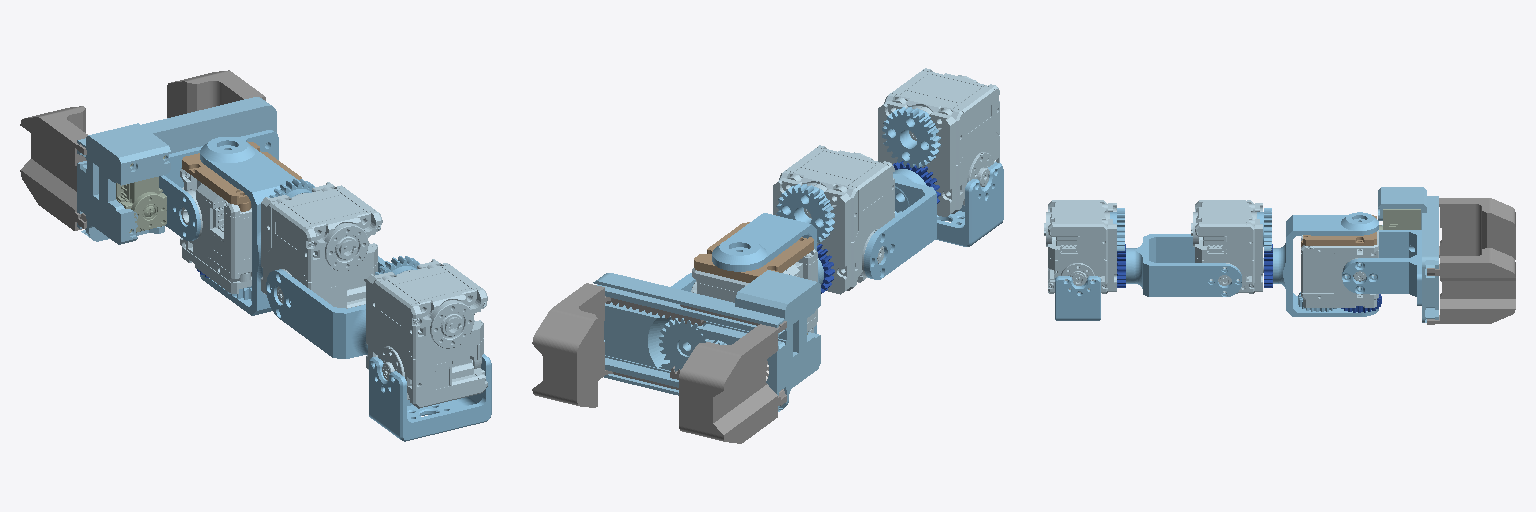
--- What the picture shows (computed from the rendered views, not written in the file) ---
3 views of the same robot in one strip: view 1: azimuth 30°, elevation 25°; view 2: azimuth 150°, elevation 25°; view 3: azimuth 270°, elevation 25° (orthographic).
Robot: left_arm_gripper — 19 links, 18 joints (10 revolute, 2 prismatic, 6 fixed); root link sho_pitch_link; default pose: all joints at 0.
Visible links, largest first — view 1: 2xl430_gears, left_rail_guide, 2xl430_gears_2, rail, 2xl430_gears_3, sho_pitch_link, elb_yaw_link, sho_yaw_link, rail_2, left_gripper_connector, xc330, wrist_bearing_plate; view 2: left_rail_guide, 2xl430_gears, rail, 2xl430_gears_2, rail_2, sho_yaw_link, elb_yaw_link, sho_pitch_link, spur_1m_24t_drive, spur_1m_24t_drive_2, 2xl430_gears_3, wrist_bearing_plate; view 3: 2xl430_gears, rail_2, sho_yaw_link, 2xl430_gears_2, rail, left_gripper_connector, 2xl430_gears_3, elb_yaw_link, left_rail_guide, sho_pitch_link, xc330, wrist_bearing_plate.
Boxes of the visible links, <box> form: 2xl430_gears: <box>366,259,487,408</box>; left_rail_guide: <box>77,97,276,244</box>; 2xl430_gears_2: <box>261,182,382,308</box>; rail: <box>20,106,87,230</box>; 2xl430_gears_3: <box>180,168,251,293</box>; sho_pitch_link: <box>369,354,491,441</box>; elb_yaw_link: <box>200,137,298,315</box>; sho_yaw_link: <box>266,256,385,358</box>; rail_2: <box>167,70,265,117</box>; left_gripper_connector: <box>159,130,278,240</box>; xc330: <box>116,155,166,232</box>; wrist_bearing_plate: <box>182,141,301,211</box>; left_rail_guide: <box>593,270,820,411</box>; 2xl430_gears: <box>878,68,999,216</box>; rail: <box>670,305,786,443</box>; 2xl430_gears_2: <box>773,145,894,294</box>; rail_2: <box>532,283,705,407</box>; sho_yaw_link: <box>864,169,936,279</box>; elb_yaw_link: <box>712,213,823,333</box>; sho_pitch_link: <box>936,162,1003,246</box>; spur_1m_24t_drive: <box>882,107,940,167</box>; spur_1m_24t_drive_2: <box>776,184,834,242</box>; 2xl430_gears_3: <box>691,249,817,332</box>; wrist_bearing_plate: <box>694,222,813,282</box>; 2xl430_gears: <box>1044,200,1116,293</box>; rail_2: <box>1427,248,1515,324</box>; sho_yaw_link: <box>1126,234,1241,296</box>; 2xl430_gears_2: <box>1191,200,1263,293</box>; rail: <box>1439,198,1515,259</box>; left_gripper_connector: <box>1342,230,1421,305</box>; 2xl430_gears_3: <box>1301,230,1378,307</box>; elb_yaw_link: <box>1273,212,1378,316</box>; left_rail_guide: <box>1378,187,1438,322</box>; sho_pitch_link: <box>1055,276,1100,320</box>; xc330: <box>1379,209,1420,229</box>; wrist_bearing_plate: <box>1301,215,1376,246</box>.
Size in the robot's own frame: 0.0917 by 0.2811 by 0.0652 metres.
Meshes: 19 distinct files referenced, 19 mesh visuals loaded (19 binary STL).

The robot description file, URDF, robot "left_arm_gripper":
<?xml version="1.0" ?>
<robot name="left_arm_gripper">
  <link name="sho_pitch_link">
    <visual>
      <origin xyz="0 0 0" rpy="0 -0 0"/>
      <geometry>
        <mesh filename="package:///meshes/left_sho_pitch_link_visual.stl"/>
      </geometry>
      <material name="sho_pitch_link_material">
        <color rgba="0.61568627450980395466 0.81176470588235294379 0.92941176470588227065 1.0"/>
      </material>
    </visual>
    <collision>
      <origin xyz="0 0 0" rpy="0 -0 0"/>
      <geometry>
        <mesh filename="package:///meshes/left_sho_pitch_link_collision.stl"/>
      </geometry>
    </collision>
    <inertial>
      <origin xyz="-1.0259034381598989264e-18 -2.1966078074444170109e-18 0.012913250798677557499" rpy="0 0 0"/>
      <mass value="0.0085999999999999982708"/>
      <inertia ixx="1.8365636406635683089e-06" ixy="1.0387514045979628457e-20" ixz="-1.6193093852519860617e-61" iyy="4.0110869076838864174e-06" iyz="-1.0800914119377960692e-46" izz="3.516051645049224817e-06"/>
    </inertial>
  </link>

  <link name="2xl430_gears">
    <visual>
      <origin xyz="0 0 0" rpy="0 -0 0"/>
      <geometry>
        <mesh filename="package:///meshes/left_2xl430_gears_visual.stl"/>
      </geometry>
      <material name="2xl430_gears_material">
        <color rgba="0.75914767920569214965 0.85560384745670925444 0.90519468321360607721 1.0"/>
      </material>
    </visual>
    <collision>
      <origin xyz="0 0 0" rpy="0 -0 0"/>
      <geometry>
        <mesh filename="package:///meshes/left_2xl430_gears_collision.stl"/>
      </geometry>
    </collision>
    <inertial>
      <origin xyz="-0.011592905737984531694 -0.0024238553642513625125 -0.018551095523807990123" rpy="0 0 0"/>
      <mass value="0.11800003674524911501"/>
      <inertia ixx="2.751102105042718034e-05" ixy="9.0043904315212092764e-07" ixz="-2.3349710123078761822e-08" iyy="3.2796197843348192627e-05" iyz="-6.57151196549046044e-07" izz="3.5775739835743546827e-05"/>
    </inertial>
  </link>

  <link name="spur_1m_24t_drive">
    <visual>
      <origin xyz="0 0 0" rpy="0 -0 0"/>
      <geometry>
        <mesh filename="package:///meshes/left_spur_1m_24t_drive_visual.stl"/>
      </geometry>
      <material name="spur_1m_24t_drive_material">
        <color rgba="0.61568627450980395466 0.81176470588235294379 0.92941176470588238168 1.0"/>
      </material>
    </visual>
    <collision>
      <origin xyz="0 0 0" rpy="0 -0 0"/>
      <geometry>
        <mesh filename="package:///meshes/left_spur_1m_24t_drive_collision.stl"/>
      </geometry>
    </collision>
    <inertial>
      <origin xyz="3.0326032612408354263e-15 -3.3912620816558811906e-16 0.0048096451474093065287" rpy="0 0 0"/>
      <mass value="0.0031999999999999997197"/>
      <inertia ixx="1.4097598887016958673e-07" ixy="1.556282310200251252e-15" ixz="-1.9054826560744749536e-36" iyy="1.4097598803635998845e-07" iyz="-1.0410230873183347628e-35" izz="2.4107776386988835496e-07"/>
    </inertial>
  </link>

  <joint name="left_sho_yaw_drive" type="revolute">
    <origin xyz="-0.024000000716142999568 -0.019000000152452855423 -0.019000000152454149527" rpy="1.5707963267951641217 1.7852935519577563101e-13 1.662194559181264057e-13"/>
    <parent link="2xl430_gears"/>
    <child link="spur_1m_24t_drive"/>
    <axis xyz="0 0 1"/>
    <limit effort="1" velocity="20" lower="-2.6179938779914944114" upper="2.6179938779914944114"/>
    <joint_properties friction="0.0"/>
  </joint>

  <link name="spur_1m_24t_driven">
    <visual>
      <origin xyz="0 0 0" rpy="0 -0 0"/>
      <geometry>
        <mesh filename="package:///meshes/left_spur_1m_24t_driven_visual.stl"/>
      </geometry>
      <material name="spur_1m_24t_driven_material">
        <color rgba="0.23137254901960788156 0.38039215686274502337 0.7058823529411765163 1.0"/>
      </material>
    </visual>
    <collision>
      <origin xyz="0 0 0" rpy="0 -0 0"/>
      <geometry>
        <mesh filename="package:///meshes/left_spur_1m_24t_driven_collision.stl"/>
      </geometry>
    </collision>
    <inertial>
      <origin xyz="-2.690304390834019776e-18 -1.6883842059581390828e-15 -0.00097237500038395777158" rpy="0 0 0"/>
      <mass value="0.0026999999999999997093"/>
      <inertia ixx="1.2202334915684080498e-07" ixy="0" ixz="0" iyy="1.2202334915684064616e-07" iyz="9.0098026086481821834e-37" izz="2.3180293204341252239e-07"/>
    </inertial>
  </link>

  <link name="sho_yaw_link">
    <visual>
      <origin xyz="0 0 0" rpy="0 -0 0"/>
      <geometry>
        <mesh filename="package:///meshes/left_sho_yaw_link_visual.stl"/>
      </geometry>
      <material name="sho_yaw_link_material">
        <color rgba="0.61568627450980395466 0.81176470588235294379 0.92941176470588238168 1.0"/>
      </material>
    </visual>
    <collision>
      <origin xyz="0 0 0" rpy="0 -0 0"/>
      <geometry>
        <mesh filename="package:///meshes/left_sho_yaw_link_collision.stl"/>
      </geometry>
    </collision>
    <inertial>
      <origin xyz="-4.7730210054626242047e-18 2.6069328434151166727e-18 -0.024649285094360075254" rpy="0 0 0"/>
      <mass value="0.014500000000000007674"/>
      <inertia ixx="9.2365904614004439553e-06" ixy="3.5862833440690451918e-13" ixz="1.4405210395321376036e-34" iyy="5.8163826335078791714e-06" iyz="7.6091566349163998504e-35" izz="4.5074356741562122031e-06"/>
    </inertial>
  </link>

  <link name="2xl430_gears_2">
    <visual>
      <origin xyz="0 0 0" rpy="0 -0 0"/>
      <geometry>
        <mesh filename="package:///meshes/left_2xl430_gears_2_visual.stl"/>
      </geometry>
      <material name="2xl430_gears_2_material">
        <color rgba="0.75914767920569214965 0.85560384745670925444 0.90519468321360607721 1.0"/>
      </material>
    </visual>
    <collision>
      <origin xyz="0 0 0" rpy="0 -0 0"/>
      <geometry>
        <mesh filename="package:///meshes/left_2xl430_gears_2_collision.stl"/>
      </geometry>
    </collision>
    <inertial>
      <origin xyz="-0.01159290573798443455 -0.0024238553642578907106 -0.018551095523808416865" rpy="0 0 0"/>
      <mass value="0.11800003674524911501"/>
      <inertia ixx="2.7511021050432377734e-05" ixy="9.0043904315196200308e-07" ixz="-2.3349710123606006745e-08" iyy="3.2796197843347941905e-05" iyz="-6.5715119654818365858e-07" izz="3.5775739835749293099e-05"/>
    </inertial>
  </link>

  <link name="spur_1m_24t_drive_2">
    <visual>
      <origin xyz="0 0 0" rpy="0 -0 0"/>
      <geometry>
        <mesh filename="package:///meshes/left_spur_1m_24t_drive_2_visual.stl"/>
      </geometry>
      <material name="spur_1m_24t_drive_2_material">
        <color rgba="0.61568627450980395466 0.81176470588235294379 0.92941176470588238168 1.0"/>
      </material>
    </visual>
    <collision>
      <origin xyz="0 0 0" rpy="0 -0 0"/>
      <geometry>
        <mesh filename="package:///meshes/left_spur_1m_24t_drive_2_collision.stl"/>
      </geometry>
    </collision>
    <inertial>
      <origin xyz="3.0326032612408362152e-15 -3.3912620813973872492e-16 0.0048096451474092995898" rpy="0 0 0"/>
      <mass value="0.0031999999999999997197"/>
      <inertia ixx="1.409759888701696132e-07" ixy="1.5562823122431795239e-15" ixz="1.716313347270729479e-36" iyy="1.4097598803636004139e-07" iyz="4.0918007442501279481e-37" izz="2.4107776386988835496e-07"/>
    </inertial>
  </link>

  <joint name="left_elbow_yaw_drive" type="revolute">
    <origin xyz="-0.024000000716145834107 -0.019000000152458659808 -0.01900000015244798085" rpy="1.5707963267947213648 5.6483017330373295891e-14 4.6978620126247880643e-14"/>
    <parent link="2xl430_gears_2"/>
    <child link="spur_1m_24t_drive_2"/>
    <axis xyz="0 0 1"/>
    <limit effort="1" velocity="20" lower="-2.6179938779914944114" upper="2.6179938779914944114"/>
    <joint_properties friction="0.0"/>
  </joint>

  <link name="spur_1m_24t_driven_2">
    <visual>
      <origin xyz="0 0 0" rpy="0 -0 0"/>
      <geometry>
        <mesh filename="package:///meshes/left_spur_1m_24t_driven_2_visual.stl"/>
      </geometry>
      <material name="spur_1m_24t_driven_2_material">
        <color rgba="0.23137254901960788156 0.38039215686274502337 0.7058823529411765163 1.0"/>
      </material>
    </visual>
    <collision>
      <origin xyz="0 0 0" rpy="0 -0 0"/>
      <geometry>
        <mesh filename="package:///meshes/left_spur_1m_24t_driven_2_collision.stl"/>
      </geometry>
    </collision>
    <inertial>
      <origin xyz="-6.1597513427876451353e-18 -1.6883842059581483519e-15 -0.00097237500038396124102" rpy="0 0 0"/>
      <mass value="0.0026999999999999997093"/>
      <inertia ixx="1.2202334915684080498e-07" ixy="-5.001952331184614871e-40" ixz="-5.4479807872574103124e-38" iyy="1.2202334915684064616e-07" iyz="-1.9538097176800387152e-36" izz="2.3180293204341262827e-07"/>
    </inertial>
  </link>

  <link name="elb_yaw_link">
    <visual>
      <origin xyz="0 0 0" rpy="0 -0 0"/>
      <geometry>
        <mesh filename="package:///meshes/left_elb_yaw_link_visual.stl"/>
      </geometry>
      <material name="elb_yaw_link_material">
        <color rgba="0.61568627450980395466 0.81176470588235294379 0.92941176470588227065 1.0"/>
      </material>
    </visual>
    <collision>
      <origin xyz="0 0 0" rpy="0 -0 0"/>
      <geometry>
        <mesh filename="package:///meshes/left_elb_yaw_link_collision.stl"/>
      </geometry>
    </collision>
    <inertial>
      <origin xyz="5.3127688027774929136e-08 0.0019833638641961648559 -0.023416643551549924662" rpy="0 0 0"/>
      <mass value="0.017500000000000005135"/>
      <inertia ixx="1.4134344903109199776e-05" ixy="1.6945783922006116668e-12" ixz="-1.1286398721833140765e-11" iyy="6.6435900776211340404e-06" iyz="1.0545227077253051227e-06" izz="8.9925290757998993713e-06"/>
    </inertial>
  </link>

  <link name="spur_1m_24t_driven_3">
    <visual>
      <origin xyz="0 0 0" rpy="0 -0 0"/>
      <geometry>
        <mesh filename="package:///meshes/left_spur_1m_24t_driven_3_visual.stl"/>
      </geometry>
      <material name="spur_1m_24t_driven_3_material">
        <color rgba="0.23137254901960788156 0.38039215686274502337 0.7058823529411765163 1.0"/>
      </material>
    </visual>
    <collision>
      <origin xyz="0 0 0" rpy="0 -0 0"/>
      <geometry>
        <mesh filename="package:///meshes/left_spur_1m_24t_driven_3_collision.stl"/>
      </geometry>
    </collision>
    <inertial>
      <origin xyz="-2.690304390834019776e-18 -1.6883842059581294192e-15 -0.0025723750003839550293" rpy="0 0 0"/>
      <mass value="0.0026999999999999997093"/>
      <inertia ixx="1.2202334915684080498e-07" ixy="-2.0478496606109072234e-37" ixz="0" iyy="1.2202334915684064616e-07" iyz="0" izz="2.3180293204341252239e-07"/>
    </inertial>
  </link>

  <link name="2xl430_gears_3">
    <visual>
      <origin xyz="0 0 0" rpy="0 -0 0"/>
      <geometry>
        <mesh filename="package:///meshes/left_2xl430_gears_3_visual.stl"/>
      </geometry>
      <material name="2xl430_gears_3_material">
        <color rgba="0.75914767920569214965 0.85560384745670925444 0.90519468321360607721 1.0"/>
      </material>
    </visual>
    <collision>
      <origin xyz="0 0 0" rpy="0 -0 0"/>
      <geometry>
        <mesh filename="package:///meshes/left_2xl430_gears_3_collision.stl"/>
      </geometry>
    </collision>
    <inertial>
      <origin xyz="0.00044890447619466358623 0.011592905379906717767 -0.024576144788201054192" rpy="0 0 0"/>
      <mass value="0.11800003674524911501"/>
      <inertia ixx="3.5775739835742191575e-05" ixy="2.3349710124490282672e-08" ixz="6.5715119654859785769e-07" iyy="2.7511021050427132906e-05" iyz="9.0043904314985839676e-07" izz="3.2796197843347379476e-05"/>
    </inertial>
  </link>

  <link name="spur_1m_24t_drive_3">
    <visual>
      <origin xyz="0 0 0" rpy="0 -0 0"/>
      <geometry>
        <mesh filename="package:///meshes/left_spur_1m_24t_drive_3_visual.stl"/>
      </geometry>
      <material name="spur_1m_24t_drive_3_material">
        <color rgba="0.61568627450980395466 0.81176470588235294379 0.92941176470588238168 1.0"/>
      </material>
    </visual>
    <collision>
      <origin xyz="0 0 0" rpy="0 -0 0"/>
      <geometry>
        <mesh filename="package:///meshes/left_spur_1m_24t_drive_3_collision.stl"/>
      </geometry>
    </collision>
    <inertial>
      <origin xyz="3.0326032612408354263e-15 -3.3912620813973867561e-16 0.0048096451474093065287" rpy="0 0 0"/>
      <mass value="0.0031999999999999997197"/>
      <inertia ixx="1.4097598887016958673e-07" ixy="1.5562823102285579479e-15" ixz="1.2360023079066387479e-35" iyy="1.4097598803635998845e-07" iyz="1.4333673239442395638e-36" izz="2.4107776386988835496e-07"/>
    </inertial>
  </link>

  <joint name="left_wrist_pitch_drive" type="revolute">
    <origin xyz="-1.524451905139367785e-10 0.024000000358071232887 -0.0080000000000054836274" rpy="4.16271708357995742e-14 -1.9270925058949600393e-13 -1.5707963267948177322"/>
    <parent link="2xl430_gears_3"/>
    <child link="spur_1m_24t_drive_3"/>
    <axis xyz="0 0 1"/>
    <limit effort="1" velocity="20" lower="-1.9198621771937625091" upper="1.3962634015954635824"/>
    <joint_properties friction="0.0"/>
  </joint>

  <link name="left_gripper_connector">
    <visual>
      <origin xyz="0 0 0" rpy="0 -0 0"/>
      <geometry>
        <mesh filename="package:///meshes/left_gripper_connector_visual.stl"/>
      </geometry>
      <material name="left_gripper_connector_material">
        <color rgba="0.61568627450980395466 0.81176470588235294379 0.92941176470588238168 1.0"/>
      </material>
    </visual>
    <collision>
      <origin xyz="0 0 0" rpy="0 -0 0"/>
      <geometry>
        <mesh filename="package:///meshes/left_gripper_connector_collision.stl"/>
      </geometry>
    </collision>
    <inertial>
      <origin xyz="-0.00018842170188954616267 -0.022508162473387265112 -0.010896047477464285841" rpy="0 0 0"/>
      <mass value="0.0099999999999999984734"/>
      <inertia ixx="5.9456375734536684232e-06" ixy="-2.447905549188665837e-08" ixz="-4.0329437936864239347e-08" iyy="4.2603724874314037743e-06" iyz="4.5852612749762338286e-07" izz="2.466963252804713858e-06"/>
    </inertial>
  </link>

  <link name="left_rail_guide">
    <visual>
      <origin xyz="0 0 0" rpy="0 -0 0"/>
      <geometry>
        <mesh filename="package:///meshes/left_rail_guide_visual.stl"/>
      </geometry>
      <material name="left_rail_guide_material">
        <color rgba="0.63181718041513323936 0.80465605329635414567 0.89972875975946797755 1.0"/>
      </material>
    </visual>
    <collision>
      <origin xyz="0 0 0" rpy="0 -0 0"/>
      <geometry>
        <mesh filename="package:///meshes/left_rail_guide_collision.stl"/>
      </geometry>
    </collision>
    <inertial>
      <origin xyz="0.010819518839780871769 0.0021116106205359614668 -7.687170986491803019e-05" rpy="0 0 0"/>
      <mass value="0.031121017612416666809"/>
      <inertia ixx="7.8532725551086577254e-06" ixy="2.0671876731375220984e-06" ixz="4.0098876287871823871e-06" iyy="2.7330594711584456634e-05" iyz="-8.9062740055665011471e-07" izz="3.0532648647413090004e-05"/>
    </inertial>
  </link>

  <link name="rail">
    <visual>
      <origin xyz="0 0 0" rpy="0 -0 0"/>
      <geometry>
        <mesh filename="package:///meshes/left_rail_visual.stl"/>
      </geometry>
      <material name="rail_material">
        <color rgba="0.64705882352941179736 0.64705882352941179736 0.64705882352941179736 1.0"/>
      </material>
    </visual>
    <collision>
      <origin xyz="0 0 0" rpy="0 -0 0"/>
      <geometry>
        <mesh filename="package:///meshes/left_rail_collision.stl"/>
      </geometry>
    </collision>
    <inertial>
      <origin xyz="0.029506549511750319176 -0.015932823905721996138 -0.010527873318605746045" rpy="0 0 0"/>
      <mass value="0.017100000000000007555"/>
      <inertia ixx="3.6539450928192396354e-06" ixy="2.1092288739438398891e-08" ixz="-1.1722367407071777491e-07" iyy="4.7510522653474580835e-06" iyz="3.1475054982591100515e-08" izz="6.1158569967957946884e-06"/>
    </inertial>
  </link>

  <joint name="left_gripper_pinion" type="prismatic">
    <origin xyz="-0.028872600000000029491 -0.015974999999999992678 -0.0053500000000000491607" rpy="3.1415926535897926719 1.5707963267948954478 0"/>
    <parent link="left_rail_guide"/>
    <child link="rail"/>
    <axis xyz="0 0 1"/>
    <limit effort="1" velocity="20" lower="-0.025000000000000001388" upper="0"/>
    <joint_properties friction="0.0"/>
  </joint>

  <link name="rail_2">
    <visual>
      <origin xyz="0 0 0" rpy="0 -0 0"/>
      <geometry>
        <mesh filename="package:///meshes/left_rail_2_visual.stl"/>
      </geometry>
      <material name="rail_2_material">
        <color rgba="0.64705882352941179736 0.64705882352941179736 0.64705882352941179736 1.0"/>
      </material>
    </visual>
    <collision>
      <origin xyz="0 0 0" rpy="0 -0 0"/>
      <geometry>
        <mesh filename="package:///meshes/left_rail_2_collision.stl"/>
      </geometry>
    </collision>
    <inertial>
      <origin xyz="0.029506549511750343462 -0.015932823905721999608 -0.010527873318605732167" rpy="0 0 0"/>
      <mass value="0.017100000000000007555"/>
      <inertia ixx="3.6539450928192396354e-06" ixy="2.1092288739438398891e-08" ixz="-1.1722367407071777491e-07" iyy="4.7510522653474580835e-06" iyz="3.1475054982591100515e-08" izz="6.1158569967957946884e-06"/>
    </inertial>
  </link>

  <joint name="left_gripper_pinion_mirror" type="prismatic">
    <origin xyz="0.062872600000000042342 0.015974999999999996148 -0.0053500000000000214051" rpy="-3.4217842105774686555e-16 1.5707963267948954478 0"/>
    <parent link="left_rail_guide"/>
    <child link="rail_2"/>
    <axis xyz="0 0 1"/>
    <limit effort="1" velocity="20" lower="-0.025000000000000001388" upper="0"/>
    <joint_properties friction="0.0"/>
  </joint>

  <link name="xc330">
    <visual>
      <origin xyz="0 0 0" rpy="0 -0 0"/>
      <geometry>
        <mesh filename="package:///meshes/left_xc330_visual.stl"/>
      </geometry>
      <material name="xc330_material">
        <color rgba="0.66932535752643762539 0.72911795671409951325 0.67547870389434383487 1.0"/>
      </material>
    </visual>
    <collision>
      <origin xyz="0 0 0" rpy="0 -0 0"/>
      <geometry>
        <mesh filename="package:///meshes/left_xc330_collision.stl"/>
      </geometry>
    </collision>
    <inertial>
      <origin xyz="0.0080045171539642415853 -0.015558009851635253018 -0.011717805512818375846" rpy="0 0 0"/>
      <mass value="0.026599999993091760775"/>
      <inertia ixx="3.8683410666514144775e-06" ixy="-7.7688424002195035071e-10" ixz="5.7969695836943880499e-10" iyy="2.1626767907494822169e-06" iyz="8.3590274790330918056e-09" izz="3.3158761130055984099e-06"/>
    </inertial>
  </link>

  <link name="spur_gear_(18_teeth)">
    <visual>
      <origin xyz="0 0 0" rpy="0 -0 0"/>
      <geometry>
        <mesh filename="package:///meshes/left_spur_gear_(18_teeth)_visual.stl"/>
      </geometry>
      <material name="spur_gear_(18_teeth)_material">
        <color rgba="0.9176470588235294823 0.9176470588235294823 0.9176470588235294823 1.0"/>
      </material>
    </visual>
    <collision>
      <origin xyz="0 0 0" rpy="0 -0 0"/>
      <geometry>
        <mesh filename="package:///meshes/left_spur_gear_(18_teeth)_collision.stl"/>
      </geometry>
    </collision>
    <inertial>
      <origin xyz="5.7245874707234634116e-17 -3.8163916471489756077e-17 -0.0025000000000000078583" rpy="0 0 0"/>
      <mass value="0.0012999999999999997235"/>
      <inertia ixx="3.3282842836137718203e-08" ixy="-1.6173796229465777701e-22" ixz="2.3031319583818275503e-37" iyy="3.3282842836137460123e-08" iyz="-1.5027956260699347386e-36" izz="6.1149428795799502273e-08"/>
    </inertial>
  </link>

  <joint name="left_gripper_rack" type="revolute">
    <origin xyz="0.008000000000000003636 -0.022500000000000002637 -0.026000000000000023093" rpy="8.0274485715290161319e-27 -6.1232339957378667434e-17 -3.141592653589793116"/>
    <parent link="xc330"/>
    <child link="spur_gear_(18_teeth)"/>
    <axis xyz="0 0 1"/>
    <limit effort="1" velocity="20" lower="0" upper="2.7052603405912107881"/>
    <joint_properties friction="0.0"/>
  </joint>

  <joint name="left_gripper_motor" type="fixed">
    <origin xyz="-0.021950000000000014638 0.022600000000000036726 0.023300000000000042899" rpy="-1.3739009929259842173e-15 2.7559334175823541618e-31 6.8285689592397465021e-30"/>
    <parent link="left_rail_guide"/>
    <child link="xc330"/>
    <axis xyz="0 0 1"/>
    <limit effort="1" velocity="20"/>
    <joint_properties friction="0.0"/>
  </joint>

  <joint name="left_gripper_fixed" type="fixed">
    <origin xyz="0 -0.037000000000000005107 -0.036000000000000004219" rpy="-1.5707963267948958919 -1.5707963267948961139 0"/>
    <parent link="left_gripper_connector"/>
    <child link="left_rail_guide"/>
    <axis xyz="0 0 1"/>
    <limit effort="1" velocity="20"/>
    <joint_properties friction="0.0"/>
  </joint>

  <joint name="left_wrist_roll" type="revolute">
    <origin xyz="0.019000000000005661666 -3.5807856679781480125e-10 -0.027000000152451263113" rpy="-2.8064031127489633951e-14 1.5707963267947580022 0"/>
    <parent link="2xl430_gears_3"/>
    <child link="left_gripper_connector"/>
    <axis xyz="0 0 1"/>
    <limit effort="1" velocity="20" lower="-1.9198621771937625091" upper="1.3962634015954635824"/>
    <joint_properties friction="0.0"/>
  </joint>

  <link name="wrist_bearing_plate">
    <visual>
      <origin xyz="0 0 0" rpy="0 -0 0"/>
      <geometry>
        <mesh filename="package:///meshes/left_wrist_bearing_plate_visual.stl"/>
      </geometry>
      <material name="wrist_bearing_plate_material">
        <color rgba="0.71932243125689054875 0.63128434304969727187 0.52422389360984933404 1.0"/>
      </material>
    </visual>
    <collision>
      <origin xyz="0 0 0" rpy="0 -0 0"/>
      <geometry>
        <mesh filename="package:///meshes/left_wrist_bearing_plate_collision.stl"/>
      </geometry>
    </collision>
    <inertial>
      <origin xyz="-0.0075835583121500130949 -0.015499999999999980807 -0.0018386323705903353121" rpy="0 0 0"/>
      <mass value="0.0049000367468305557062"/>
      <inertia ixx="4.9707430109150118544e-07" ixy="1.1840168245471985606e-22" ixz="1.8100904820814018704e-08" iyy="7.1268523603538542471e-07" iyz="1.9408397704641965019e-23" izz="1.1919657811600104999e-06"/>
    </inertial>
  </link>

  <joint name="left_wrist_pitch_fixed" type="fixed">
    <origin xyz="0.015500000000000927966 -5.3013149425851224805e-15 -0.045000000000004647394" rpy="-1.3423748839779928189e-14 -1.2850831510036285405e-13 -1.5707963267947808728"/>
    <parent link="2xl430_gears_3"/>
    <child link="wrist_bearing_plate"/>
    <axis xyz="0 0 1"/>
    <limit effort="1" velocity="20"/>
    <joint_properties friction="0.0"/>
  </joint>

  <joint name="left_wrist_pitch_driven" type="revolute">
    <origin xyz="2.7755575615628913511e-17 -2.7218856673745791334e-26 -0.0015999999999999970409" rpy="1.4482204529901611002e-15 -3.5076854490550032472e-16 -1.570796326794896558"/>
    <parent link="spur_1m_24t_driven_3"/>
    <child link="2xl430_gears_3"/>
    <axis xyz="0 0 1"/>
    <limit effort="1" velocity="20" lower="-1.3962634015954635824" upper="1.9198621771937625091"/>
    <joint_properties friction="0.0"/>
  </joint>

  <joint name="left_wrist_roll_fixed" type="fixed">
    <origin xyz="-3.1491327336422791272e-27 -0.025299999999999996103 -0.052000000000000004552" rpy="1.570796326794896558 -1.570796326794896558 0"/>
    <parent link="elb_yaw_link"/>
    <child link="spur_1m_24t_driven_3"/>
    <axis xyz="0 0 1"/>
    <limit effort="1" velocity="20"/>
    <joint_properties friction="0.0"/>
  </joint>

  <joint name="left_elbow_yaw_fixed" type="fixed">
    <origin xyz="3.4694469519536141888e-18 -2.5312968726731826812e-26 0.0016000000000000041966" rpy="3.141592653589793116 9.0036945470132253747e-18 -1.570796326794896558"/>
    <parent link="spur_1m_24t_driven_2"/>
    <child link="elb_yaw_link"/>
    <axis xyz="0 0 1"/>
    <limit effort="1" velocity="20"/>
    <joint_properties friction="0.0"/>
  </joint>

  <joint name="left_elbow_yaw_driven" type="revolute">
    <origin xyz="-3.5806529269377662672e-10 -0.027000000152462802494 -0.019000000000002664063" rpy="1.5707963267946982722 1.4238795043810668594e-14 -3.1956956748115225826e-14"/>
    <parent link="2xl430_gears_2"/>
    <child link="spur_1m_24t_driven_2"/>
    <axis xyz="0 0 1"/>
    <limit effort="1" velocity="20" lower="-2.6179938779914944114" upper="2.6179938779914944114"/>
    <joint_properties friction="0.0"/>
  </joint>

  <joint name="left_elbow_roll" type="revolute">
    <origin xyz="0 -0.018999999999999999528 -0.058999999999999996891" rpy="1.570796326794896558 -1.5263566955096096865e-15 2.4483102557774331631e-15"/>
    <parent link="sho_yaw_link"/>
    <child link="2xl430_gears_2"/>
    <axis xyz="0 0 1"/>
    <limit effort="1" velocity="20" lower="-1.9198621771937625091" upper="2.4434609527920612138"/>
    <joint_properties friction="0.0"/>
  </joint>

  <joint name="left_sho_yaw_fixed" type="fixed">
    <origin xyz="0 2.4517796934269046912e-27 0.0015999999999999937883" rpy="-3.1415926535897908956 7.315399160866554694e-16 8.930518398153610412e-16"/>
    <parent link="spur_1m_24t_driven"/>
    <child link="sho_yaw_link"/>
    <axis xyz="0 0 1"/>
    <limit effort="1" velocity="20"/>
    <joint_properties friction="0.0"/>
  </joint>

  <joint name="left_sho_yaw_driven" type="revolute">
    <origin xyz="-3.5806378001490557494e-10 -0.027000000152455592983 -0.019000000000011431356" rpy="1.5707963267950484365 6.5054138685605535834e-14 8.4771249118856306737e-14"/>
    <parent link="2xl430_gears"/>
    <child link="spur_1m_24t_driven"/>
    <axis xyz="0 0 1"/>
    <limit effort="1" velocity="20" lower="-2.6179938779914944114" upper="2.6179938779914944114"/>
    <joint_properties friction="0.0"/>
  </joint>

  <joint name="left_sho_roll" type="revolute">
    <origin xyz="-0.018999999999999940548 -2.447003827555054701e-17 0.02699999999999990602" rpy="3.1415926535897913396 1.5707963267948359398 0"/>
    <parent link="sho_pitch_link"/>
    <child link="2xl430_gears"/>
    <axis xyz="0 0 1"/>
    <limit effort="1" velocity="20" lower="-1.570796326794896558" upper="0.34906585039886589561"/>
    <joint_properties friction="0.0"/>
  </joint>


</robot>
